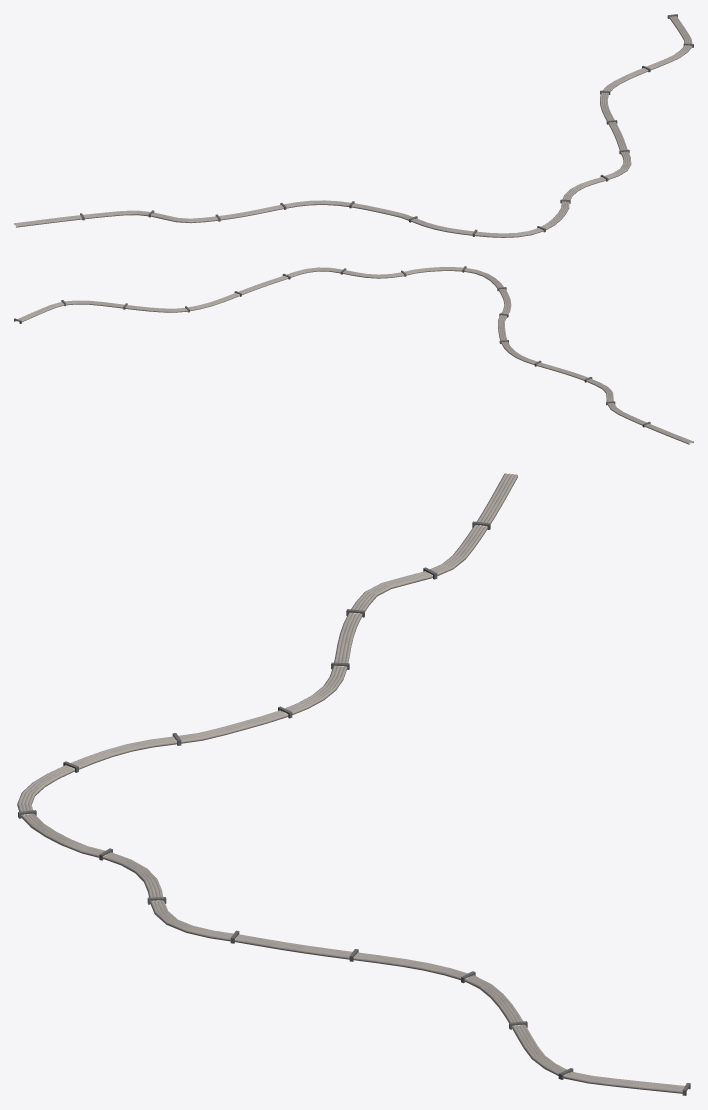
Rendered from Test_Rope2__2.fbx.
The picture shows the model from 3 angles, top to bottom: view 1: azimuth 30°, elevation 25°; view 2: azimuth 150°, elevation 25°; view 3: azimuth 270°, elevation 25°; orthographic projection. The views are drawn at different scales.
Visible parts, largest first — view 1: Mat_Tile_Color_07 1, Mat_Tile_Color_07 2, Mat_Tile_Color_07 3, Mat_Tile_Color_01 1; view 2: Mat_Tile_Color_07 1, Mat_Tile_Color_07 2, Mat_Tile_Color_07 3, Mat_Tile_Color_01 1; view 3: Mat_Tile_Color_07 1, Mat_Tile_Color_07 2, Mat_Tile_Color_07 3, Mat_Tile_Color_01 1.
Boxes of the visible parts, x1=… form: Mat_Tile_Color_07 1: x1=14, y1=16, x2=690, y2=235; Mat_Tile_Color_07 2: x1=16, y1=16, x2=692, y2=237; Mat_Tile_Color_07 3: x1=15, y1=16, x2=688, y2=234; Mat_Tile_Color_01 1: x1=80, y1=14, x2=693, y2=236; Mat_Tile_Color_07 1: x1=19, y1=267, x2=691, y2=444; Mat_Tile_Color_07 2: x1=15, y1=267, x2=693, y2=443; Mat_Tile_Color_07 3: x1=20, y1=268, x2=690, y2=442; Mat_Tile_Color_01 1: x1=14, y1=266, x2=650, y2=427; Mat_Tile_Color_07 1: x1=21, y1=473, x2=684, y2=1089; Mat_Tile_Color_07 2: x1=17, y1=473, x2=682, y2=1093; Mat_Tile_Color_07 3: x1=24, y1=474, x2=683, y2=1088; Mat_Tile_Color_01 1: x1=18, y1=521, x2=690, y2=1095.
Bounding box in the file's own units: 46.16 × 0.1815 × 21.21.
5 materials, 5 textured.
